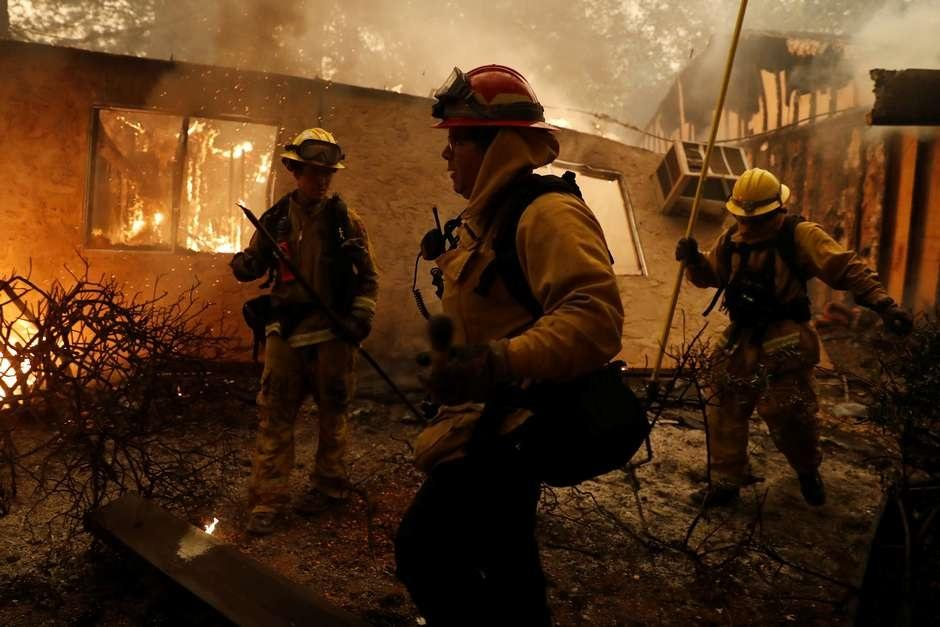Fire: (94, 111, 271, 255), (1, 315, 41, 407), (194, 512, 228, 542)
